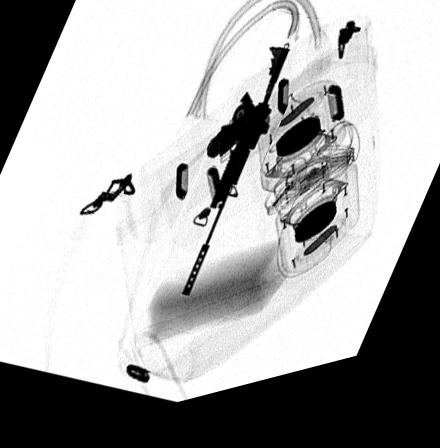Gun: (180, 59, 291, 307)
